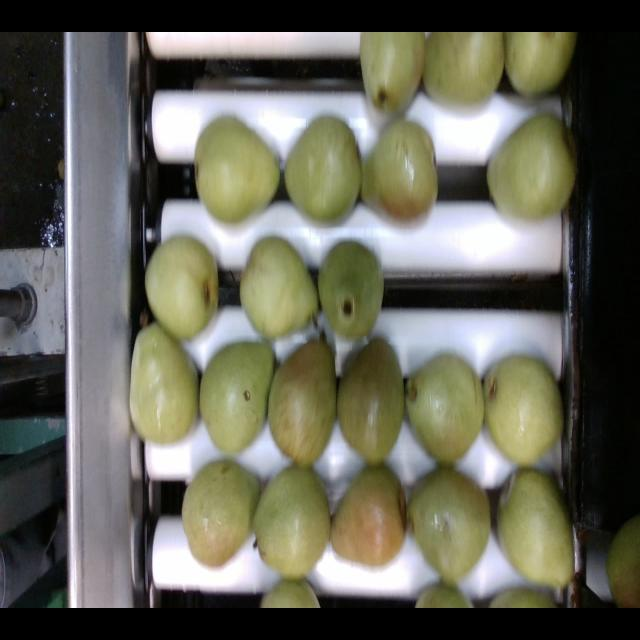pears: (486, 114, 579, 228), (409, 468, 492, 586), (182, 459, 267, 572), (195, 116, 281, 226), (499, 469, 575, 593), (128, 321, 201, 449), (482, 355, 565, 466), (360, 119, 440, 233), (268, 340, 339, 468), (406, 352, 485, 467), (254, 467, 332, 582), (200, 343, 277, 458), (338, 336, 405, 467), (283, 116, 362, 227), (241, 238, 320, 344), (330, 465, 408, 572), (146, 236, 220, 343), (319, 241, 385, 345), (424, 33, 505, 104), (360, 32, 426, 112), (502, 33, 575, 96)
